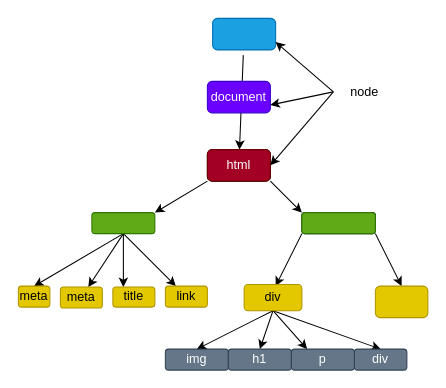
The diagram is 446 pixels wide and 388 high, and some of its shapes have lost their labels. Each missing label, with the centre of its shape:
body: (x=338, y=223)
head: (x=123, y=223)
script: (x=401, y=301)
Window: (x=244, y=33)
